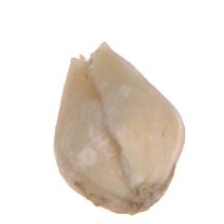L1: (70, 39, 108, 83), (126, 182, 168, 216)
L2: (54, 42, 186, 215)
